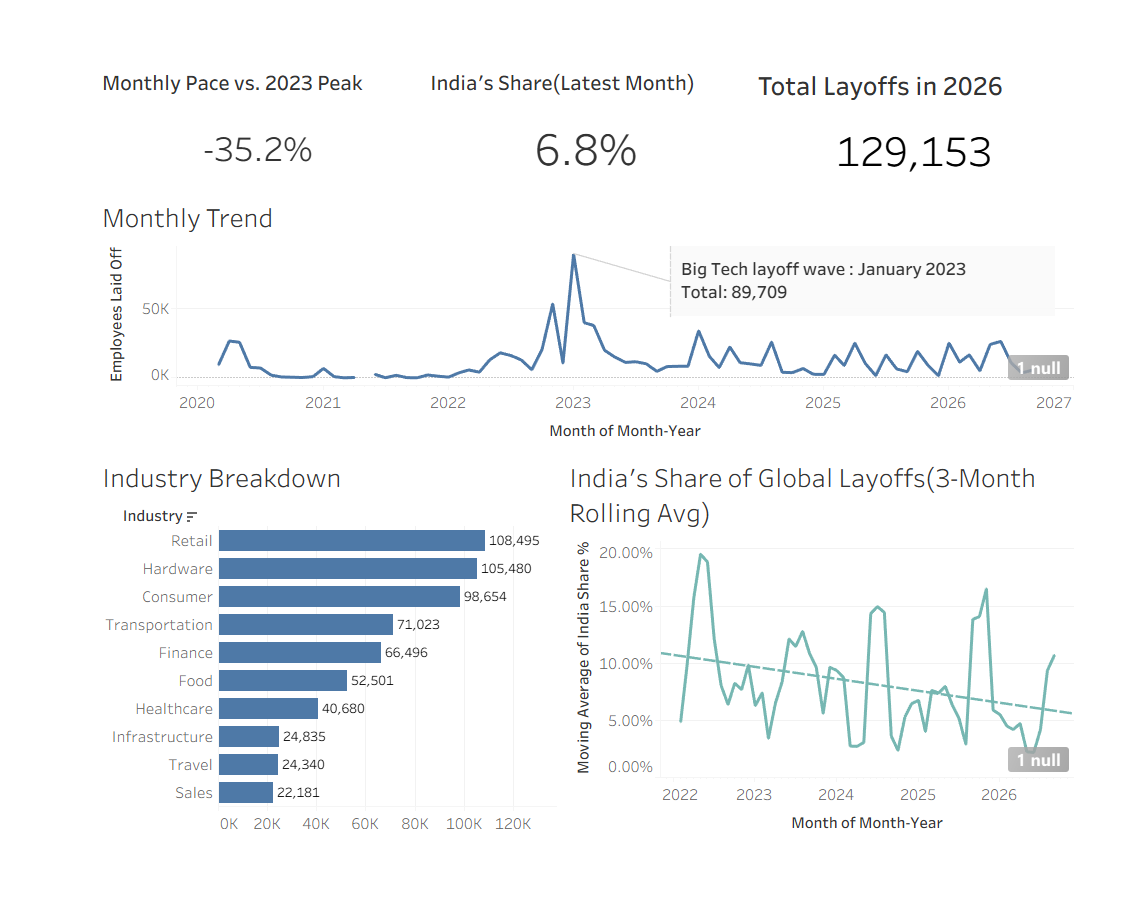

This screenshot's page, from the dashboard's own definition file:
{"tool":"tableau","page":{"name":"Dashboard 1","canvas":[1000,800],"ordinal":0},"visuals":[{"type":"worksheet","title":"KPI vs Peak","mark":"Automatic","box":[8,8,328,132]},{"type":"worksheet","title":"KPI India Share","mark":"Automatic","box":[336,8,328,132]},{"type":"worksheet","title":"KPI Total 2026","mark":"Automatic","box":[664,8,328,132]},{"type":"worksheet","title":"Monthly Trend","mark":"Automatic","rows":["total_laid_off"],"cols":["Calculation_847802678073610243"],"box":[8,140,984,260]},{"type":"worksheet","title":"Industry Breakdown","mark":"Automatic","rows":["industry"],"cols":["total_laid_off"],"box":[8,400,467,392]},{"type":"worksheet","title":"India Share","mark":"Automatic","cols":["Calculation_847802678073610243"],"box":[475,400,517,392]}]}

Visuals, with their boxes in screenshot pixels (x1, y1, x2, y2), scaled from the page's 1000x800 canvas onto the 1145x907 screenshot:
"KPI vs Peak" worksheet: BBox(9, 9, 385, 159)
"KPI India Share" worksheet: BBox(385, 9, 760, 159)
"KPI Total 2026" worksheet: BBox(760, 9, 1136, 159)
"Monthly Trend" worksheet: BBox(9, 159, 1136, 454)
"Industry Breakdown" worksheet: BBox(9, 454, 544, 898)
"India Share" worksheet: BBox(544, 454, 1136, 898)
